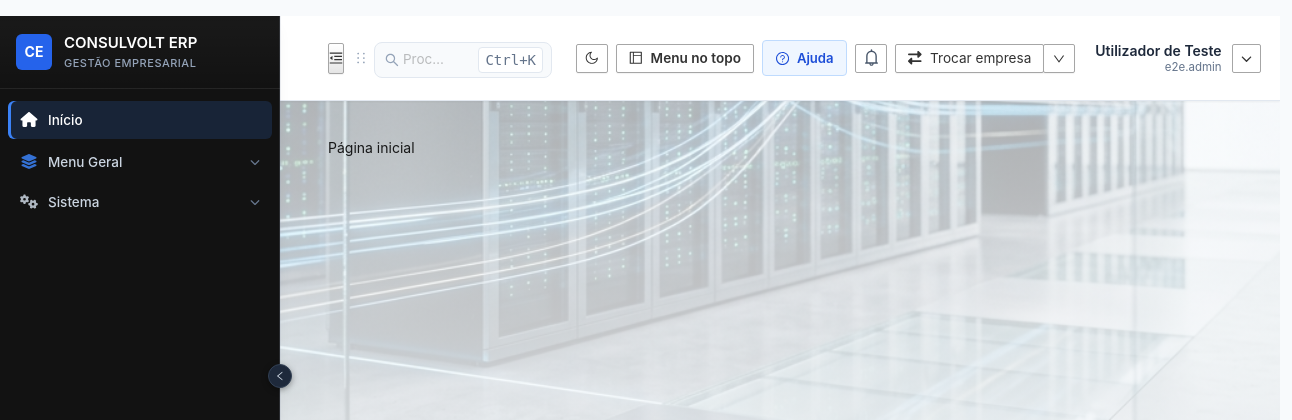
LayoutPrincipal — Versão Actual: busca no menu, aspecto e tela nocturna › «Procurar» encontra as funções dentro dos ecrãs (sem acentos, várias palavras) com «Módulo › Ecrã» e abre o ecrã
(page scrolled)
Step 1. Type "ANULAR recibos" into the dropdown named "Procurar no sistema" → (427, 60), box left=403, top=47, right=450, bottom=73
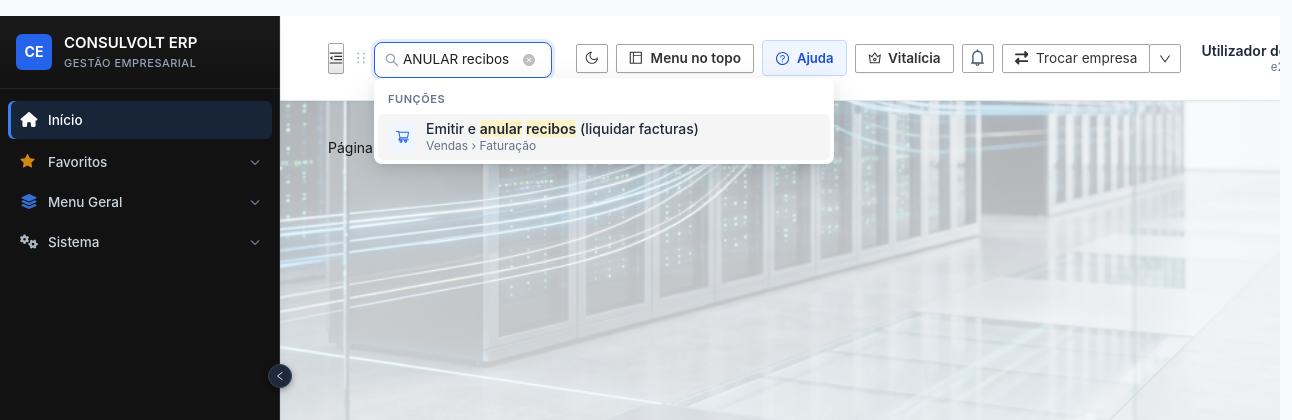
Result: the text "Funções" is shown at left=388, top=92, right=445, bottom=106
Result: the text "Vendas › Faturação" shows "Emitir e anular recibos (liquidar facturas)" at left=388, top=120, right=699, bottom=153
Result: the text "anular" is shown at left=480, top=120, right=522, bottom=137
Note: ecrãs de que o utilizador não tem o menu (ex.: compras) nunca aparecem
Step 2. Replace the text in the dropdown named "Procurar no sistema" with "fornecedores" → (459, 60), box left=403, top=47, right=515, bottom=73
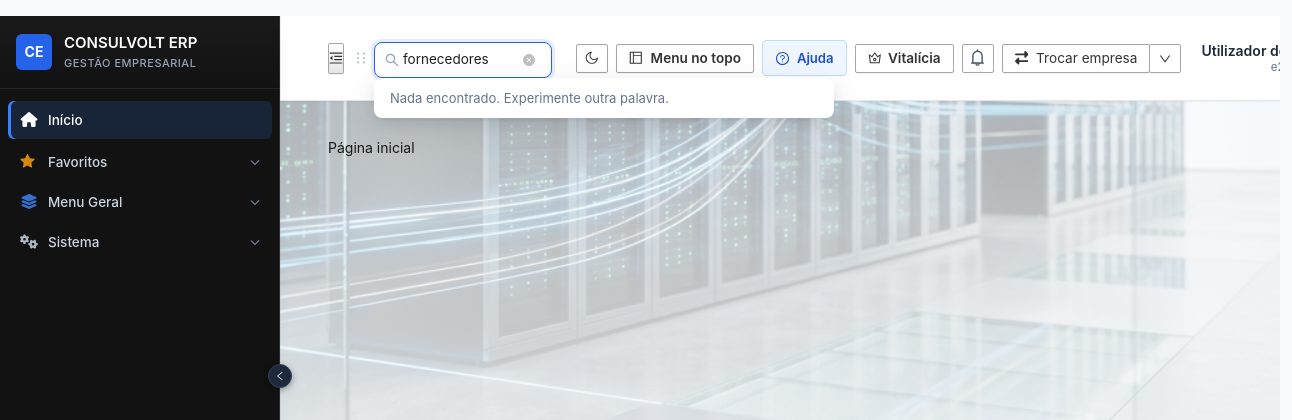
Result: the text "Nada encontrado. Experimente outra palavra." is shown at left=390, top=90, right=669, bottom=106
Step 3. Replace the text in the dropdown named "Procurar no sistema" with "anular recibos" → (459, 60), box left=403, top=47, right=515, bottom=73
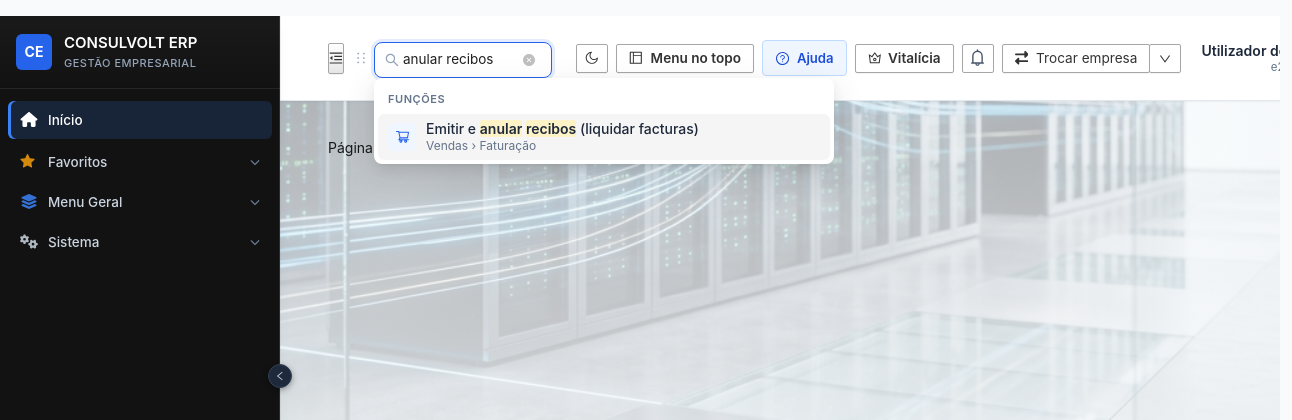
Step 4. Click the text "Vendas › Faturação" → (481, 146), box left=426, top=138, right=536, bottom=153
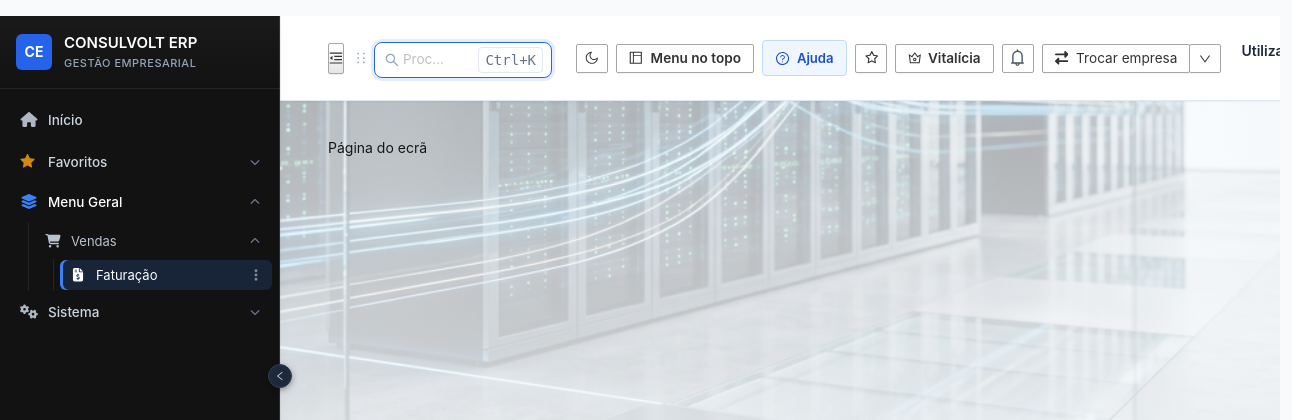
Result: the text "Página do ecrã" is shown at left=328, top=139, right=427, bottom=156
